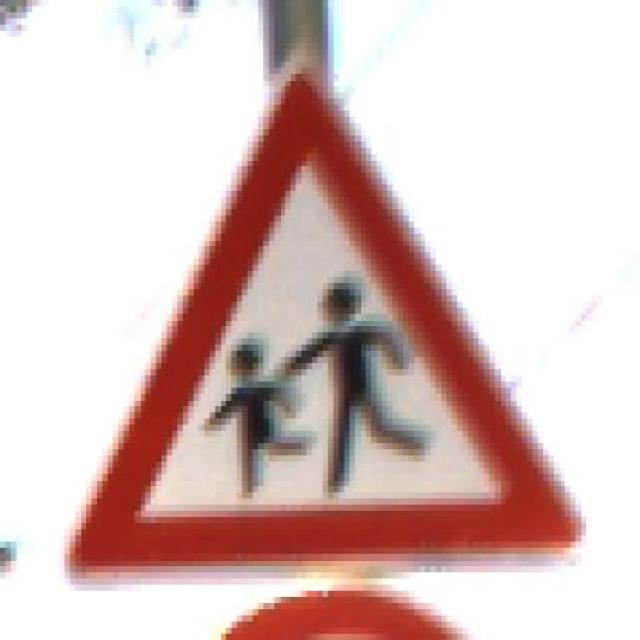Beware of children: (37, 62, 608, 590)
